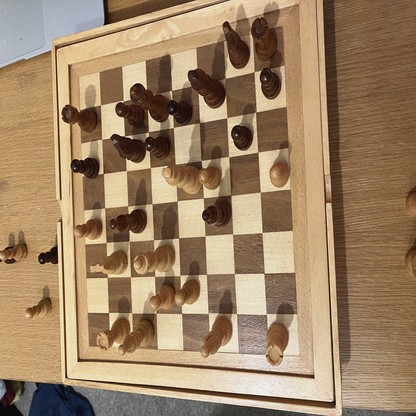bishop_black: (110, 209, 148, 236), (203, 202, 232, 227)
bishop_white: (118, 320, 155, 355), (201, 317, 232, 357)
king_black: (187, 69, 226, 109)
king_white: (161, 164, 202, 195)
knight_black: (223, 21, 250, 69), (110, 134, 145, 164)
knight_white: (89, 251, 128, 274)
pawn_black: (115, 102, 145, 128), (260, 68, 281, 98), (167, 100, 192, 125), (144, 136, 171, 159), (70, 159, 99, 177), (232, 126, 253, 150), (38, 247, 59, 266)
pawn_white: (174, 280, 200, 306), (149, 286, 175, 312), (25, 297, 53, 319), (73, 219, 102, 240), (0, 241, 27, 262), (199, 168, 222, 189), (269, 163, 289, 187)
queen_black: (130, 83, 170, 122)
queen_white: (133, 246, 176, 272)
rock_black: (251, 18, 278, 60), (62, 105, 97, 133)
rock_white: (97, 318, 130, 351), (266, 324, 288, 366)
